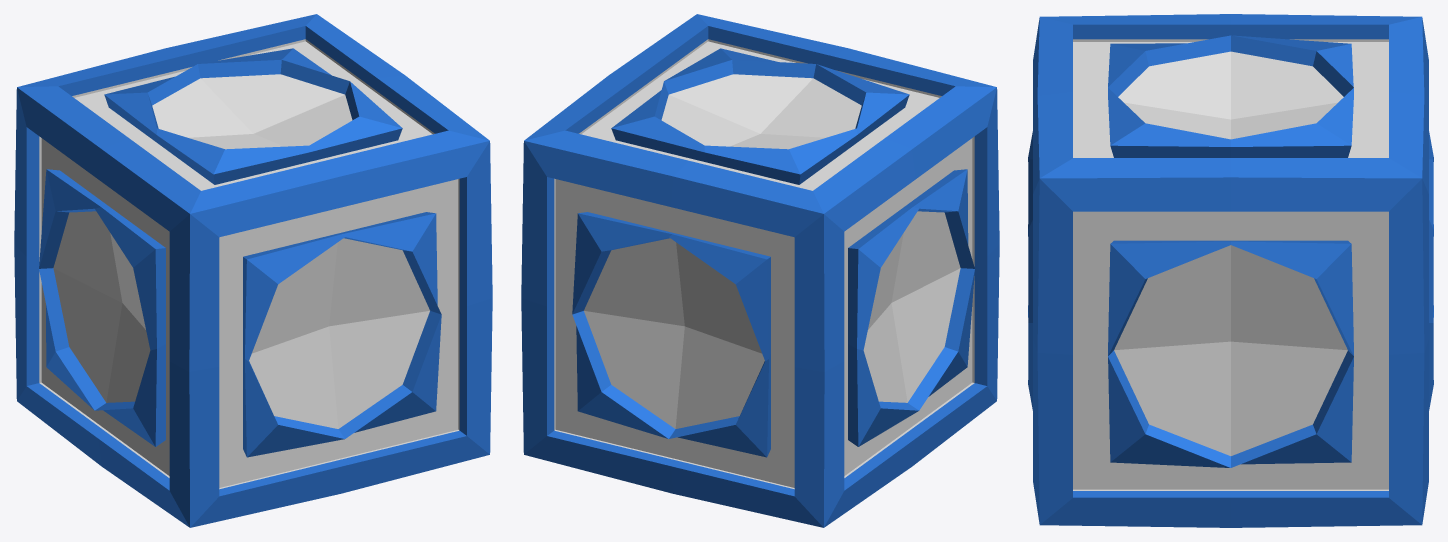
The model's file is caja_scifi_azul.fbx.
3 views of the same model, side by side, from view 1: azimuth 30°, elevation 25°; view 2: azimuth 150°, elevation 25°; view 3: azimuth 270°, elevation 25° (orthographic). The views are drawn at different scales.
Parts seen in each view (by area): view 1: Bordes, Blancos; view 2: Bordes, Blancos; view 3: Bordes, Blancos.
Boxes of the visible parts, x1,y1,x2,y2 form: Bordes: (14,14,492,527); Blancos: (39,39,459,489); Bordes: (521,14,999,527); Blancos: (554,39,974,489); Bordes: (1028,14,1433,527); Blancos: (1073,39,1388,490).
Size of the model in its own units: 223 by 223 by 223.
